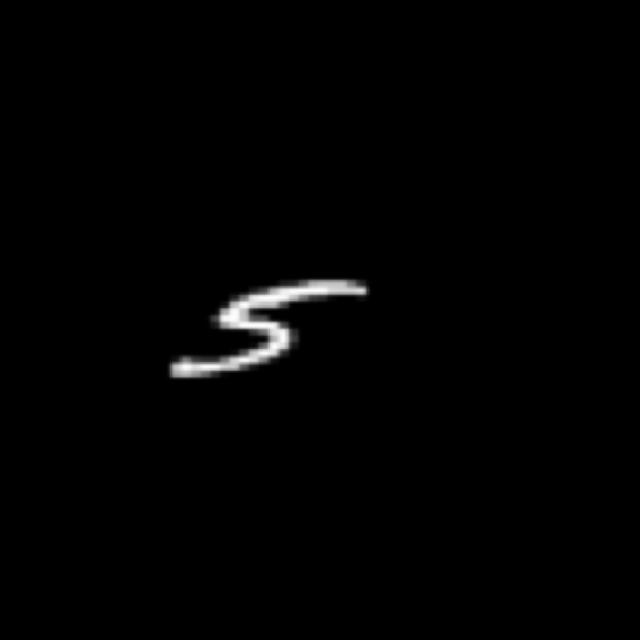five -5-: (161, 271, 377, 391)
